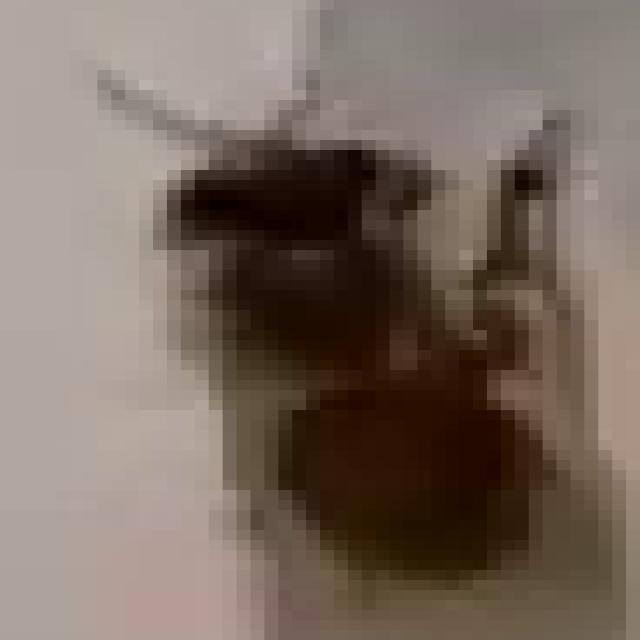honeybee: (113, 98, 640, 607)
